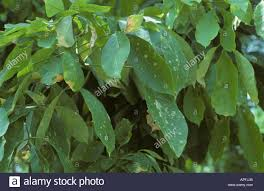Diseased_Leaves: (152, 96, 180, 139), (160, 38, 185, 81), (54, 73, 78, 87), (125, 16, 143, 32), (91, 33, 94, 43), (145, 54, 146, 58), (154, 62, 155, 64)
